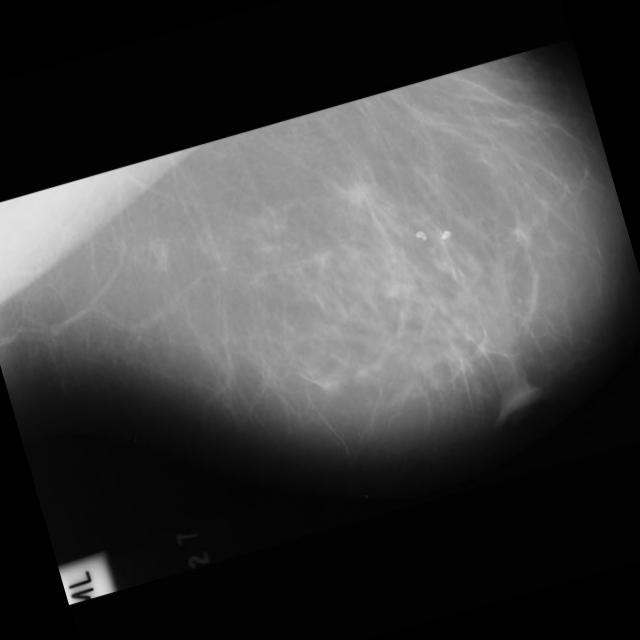SPIC: (342, 178, 374, 210)
